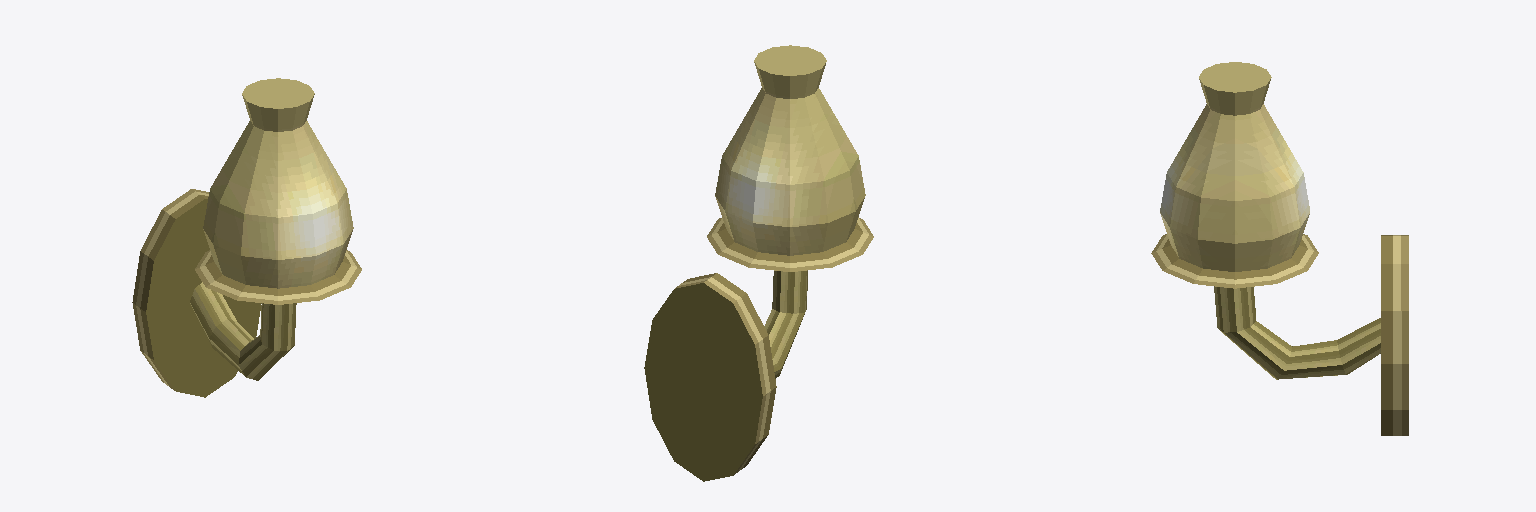
3 views of the same model, side by side, from view 1: azimuth 30°, elevation 25°; view 2: azimuth 150°, elevation 25°; view 3: azimuth 270°, elevation 25° (orthographic).
Parts seen in each view (by area): view 1: Mesh_0003; view 2: Mesh_0003; view 3: Mesh_0003.
Boxes of the visible parts, <box> form: Mesh_0003: <box>132,78,361,397</box>; Mesh_0003: <box>644,45,873,481</box>; Mesh_0003: <box>1151,62,1408,435</box>.
Bounding box in the file's own units: 0.3063 × 0.7204 × 0.47.
1 materials, 1 textured.